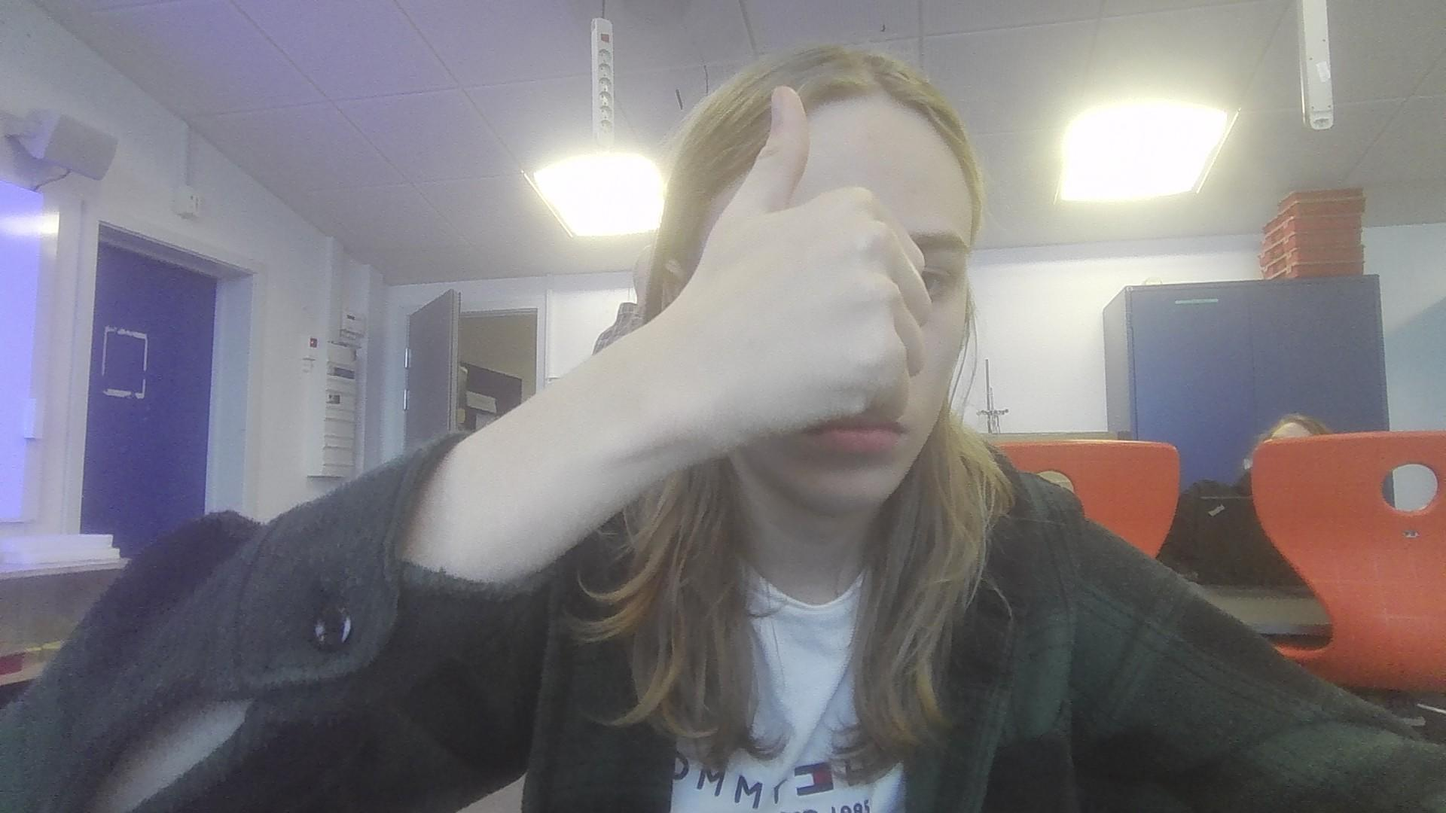thumbs up: (635, 80, 930, 470)
